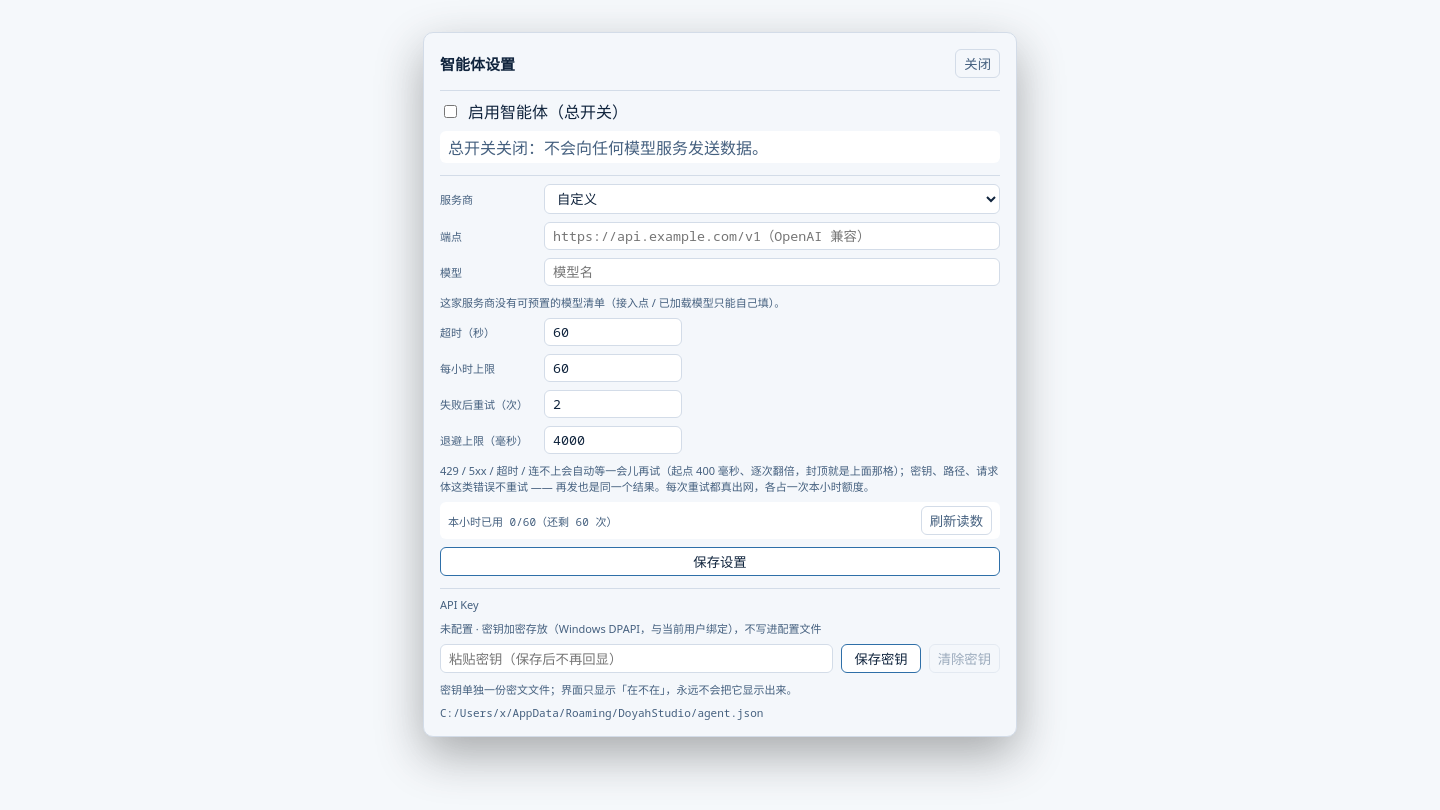
it: 智能体设置弹层 › 没有密钥时「清除密钥」是灰的；有密钥时可点并真的清掉
Expected: the button with test id "agent-key-clear" is disabled, [929,644,1000,673]
Type "sk-x" into the password field with test id "agent-key-input".
click(637, 658); type("sk-x")  # box [440,644,833,673]
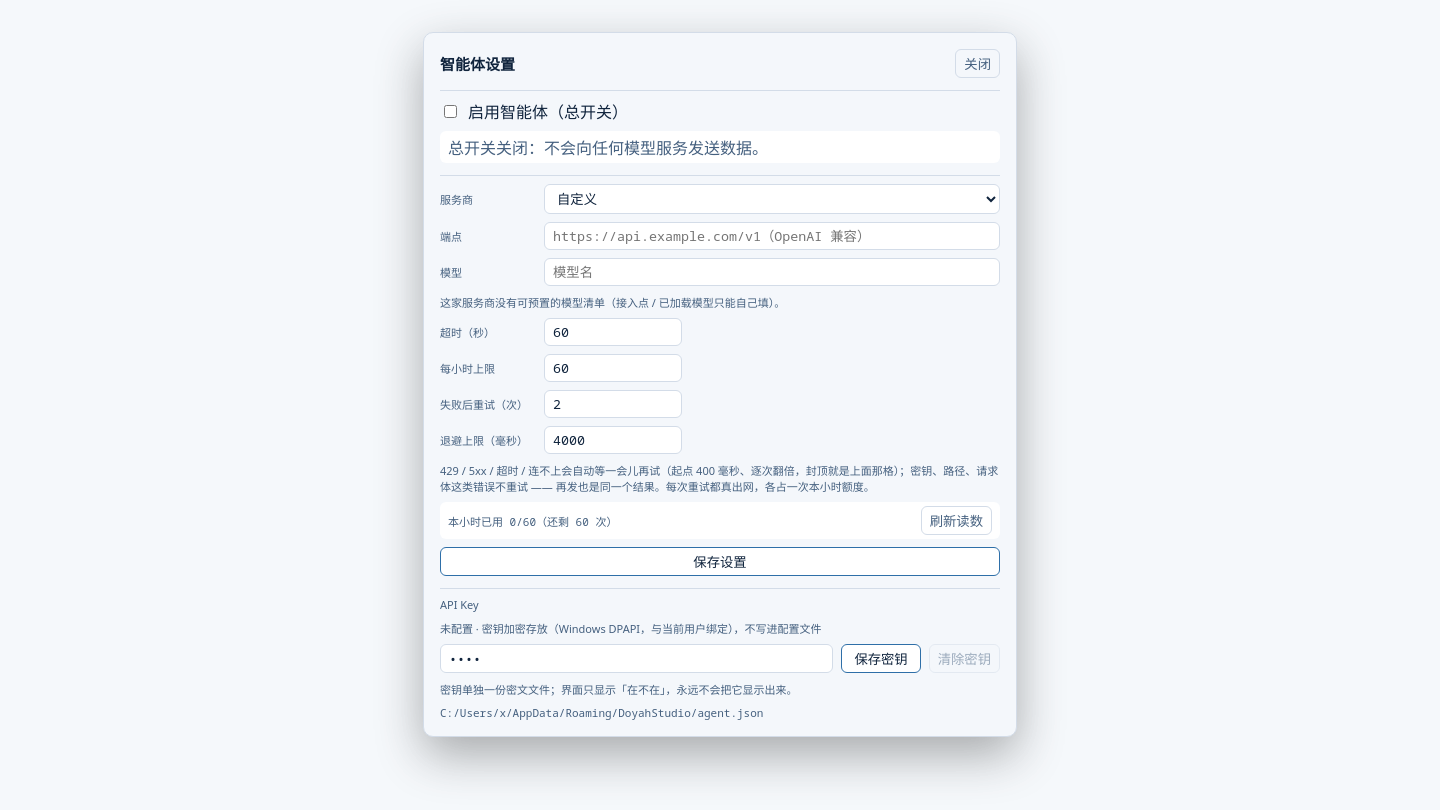
Click the button with test id "agent-key-save".
click(881, 658)  # box [841,644,921,673]
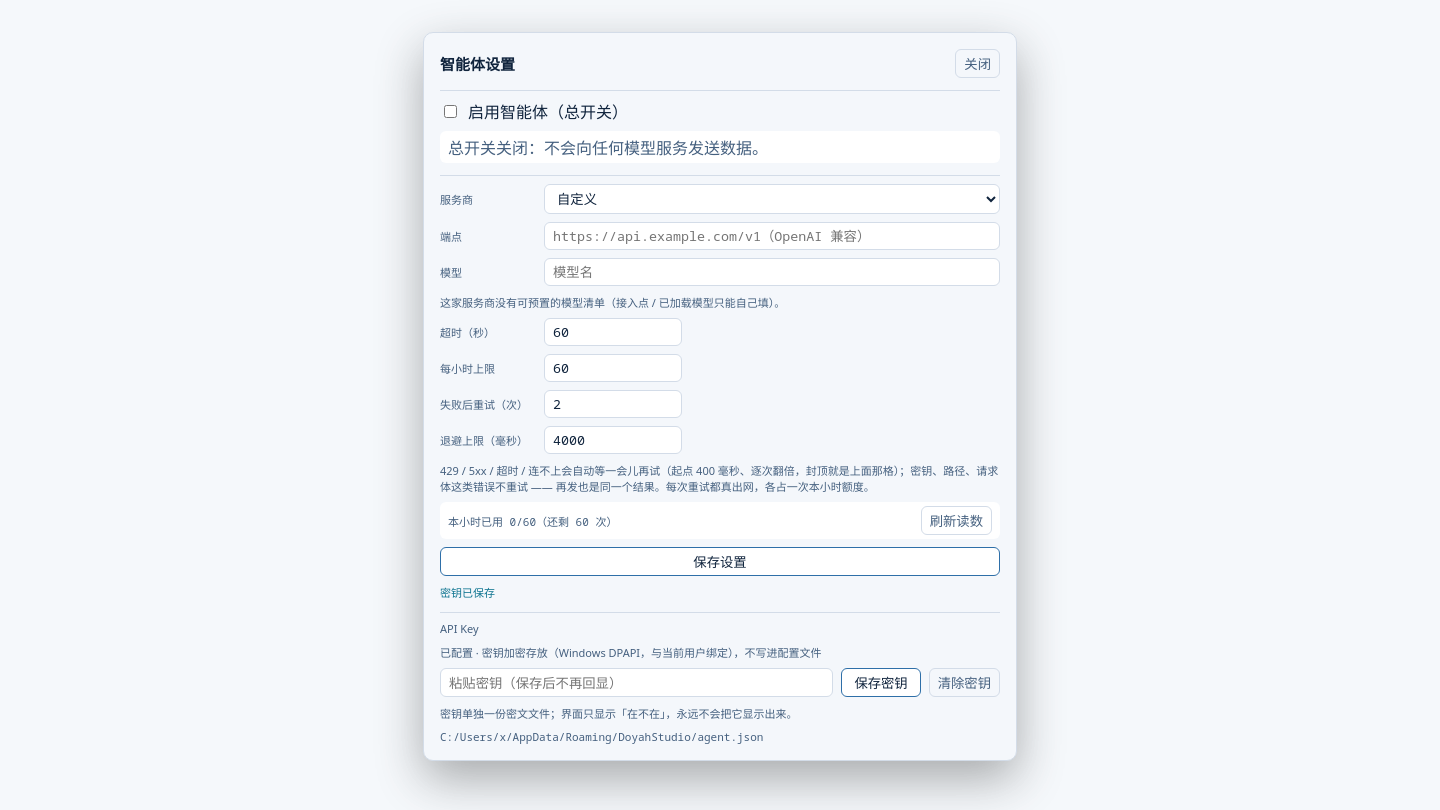
Result: the button with test id "agent-key-clear" is enabled
Click the button with test id "agent-key-clear".
click(964, 682)  # box [929,668,1000,697]
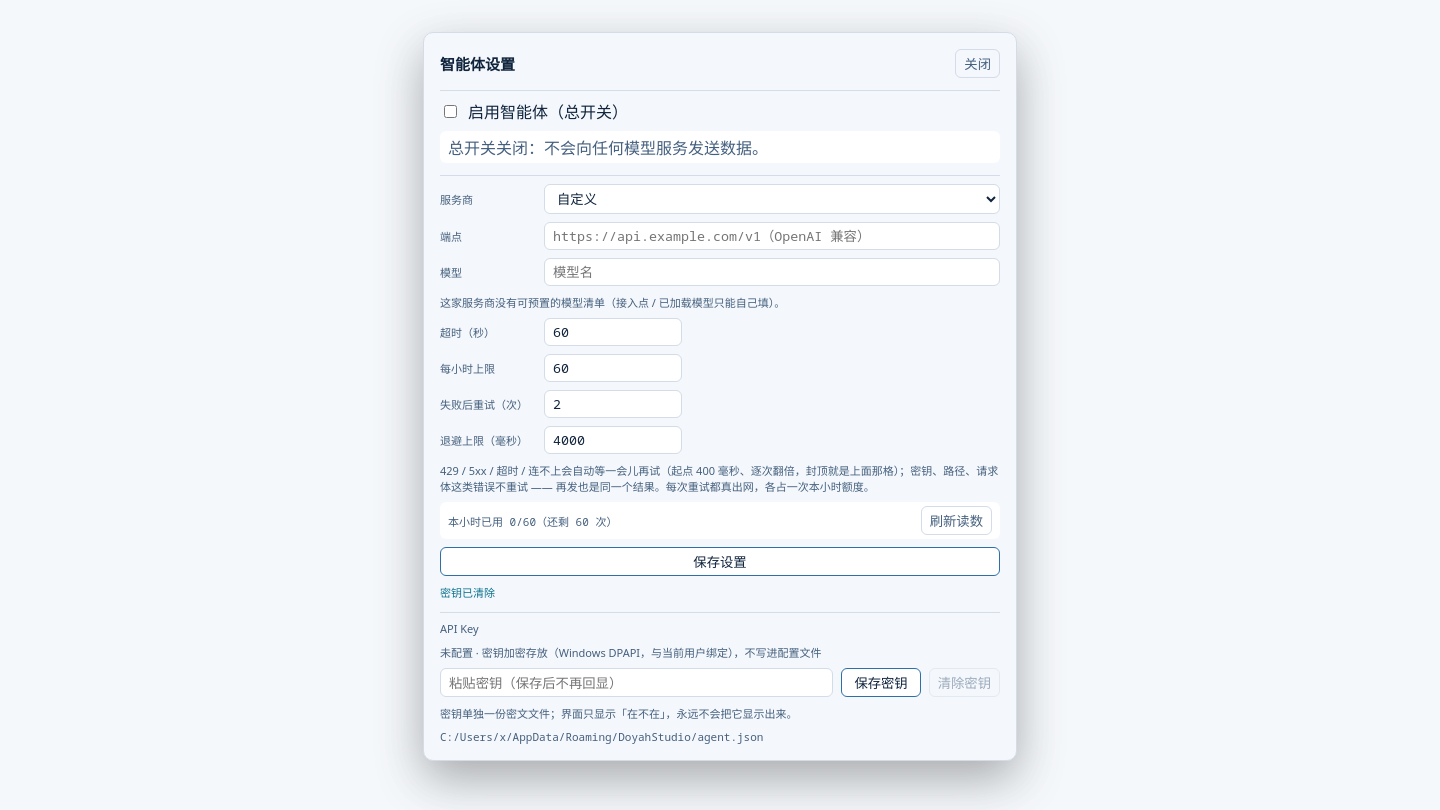
Result: the text with test id "agent-key-state" shows "未配置" at [440,645,822,660]
